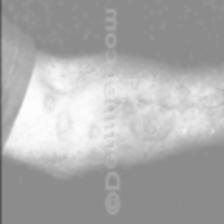Unclassified: (119, 71, 224, 137), (42, 85, 96, 148)
